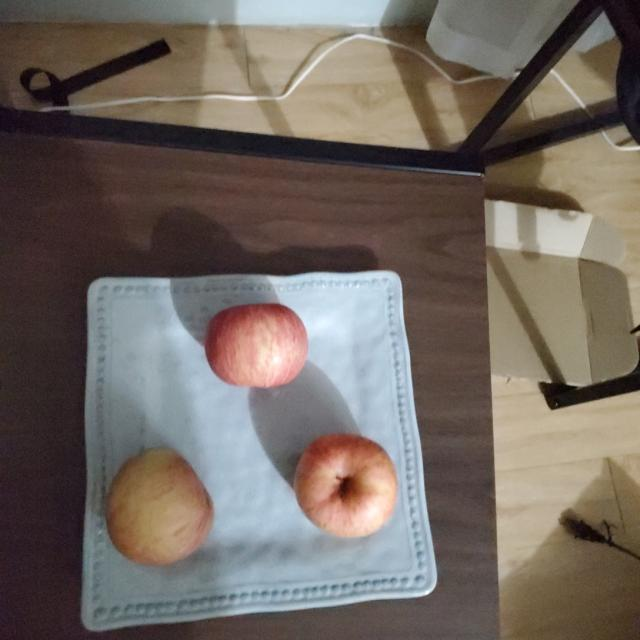apple: (103, 448, 212, 566), (296, 436, 396, 538), (204, 304, 308, 388)
